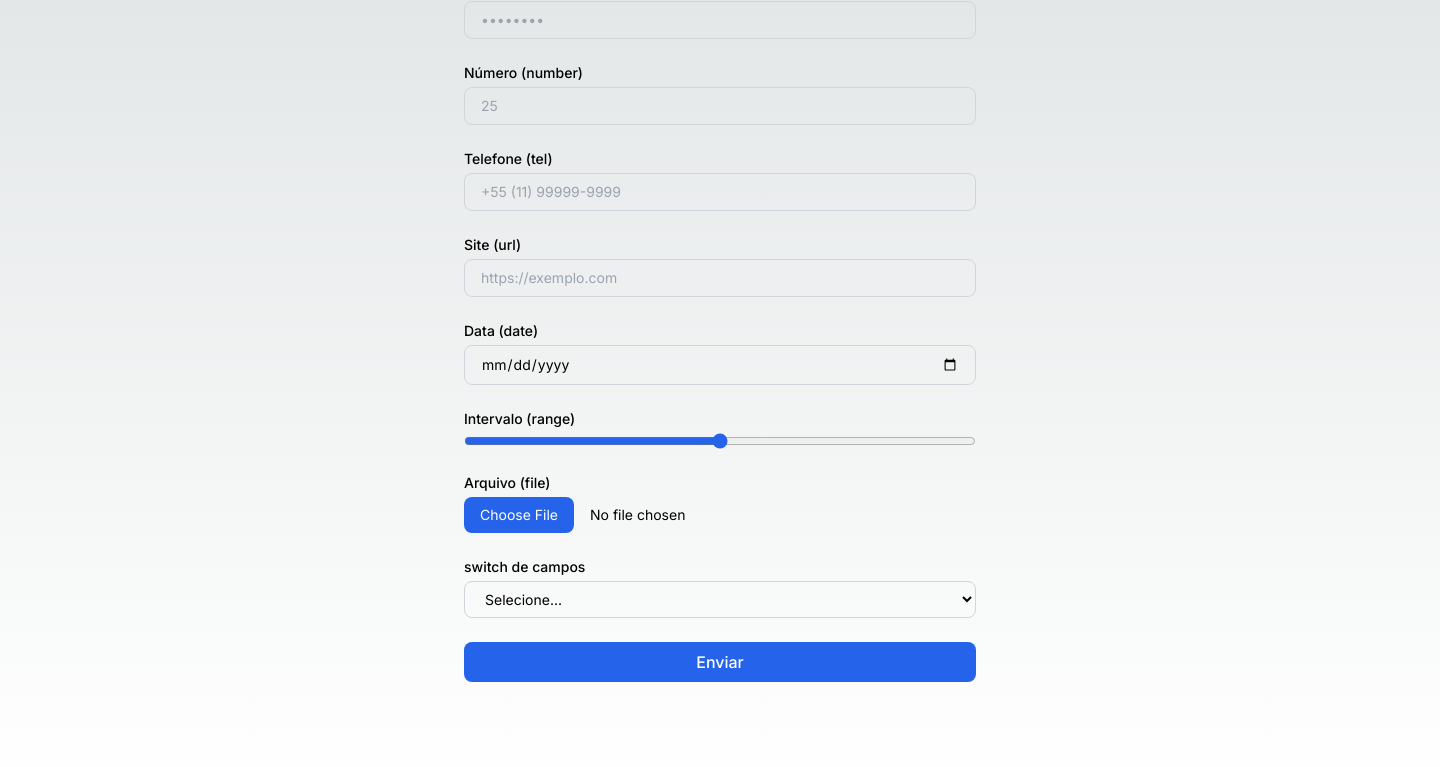
Test: ContactPage — campo WhatsApp condicional › Deve exibir o campo WhatsApp Quando selecionar a opção WhatsApp
(page scrolled)
Select "campo-1" in the dropdown at [720, 600], box [464,581,976,618]
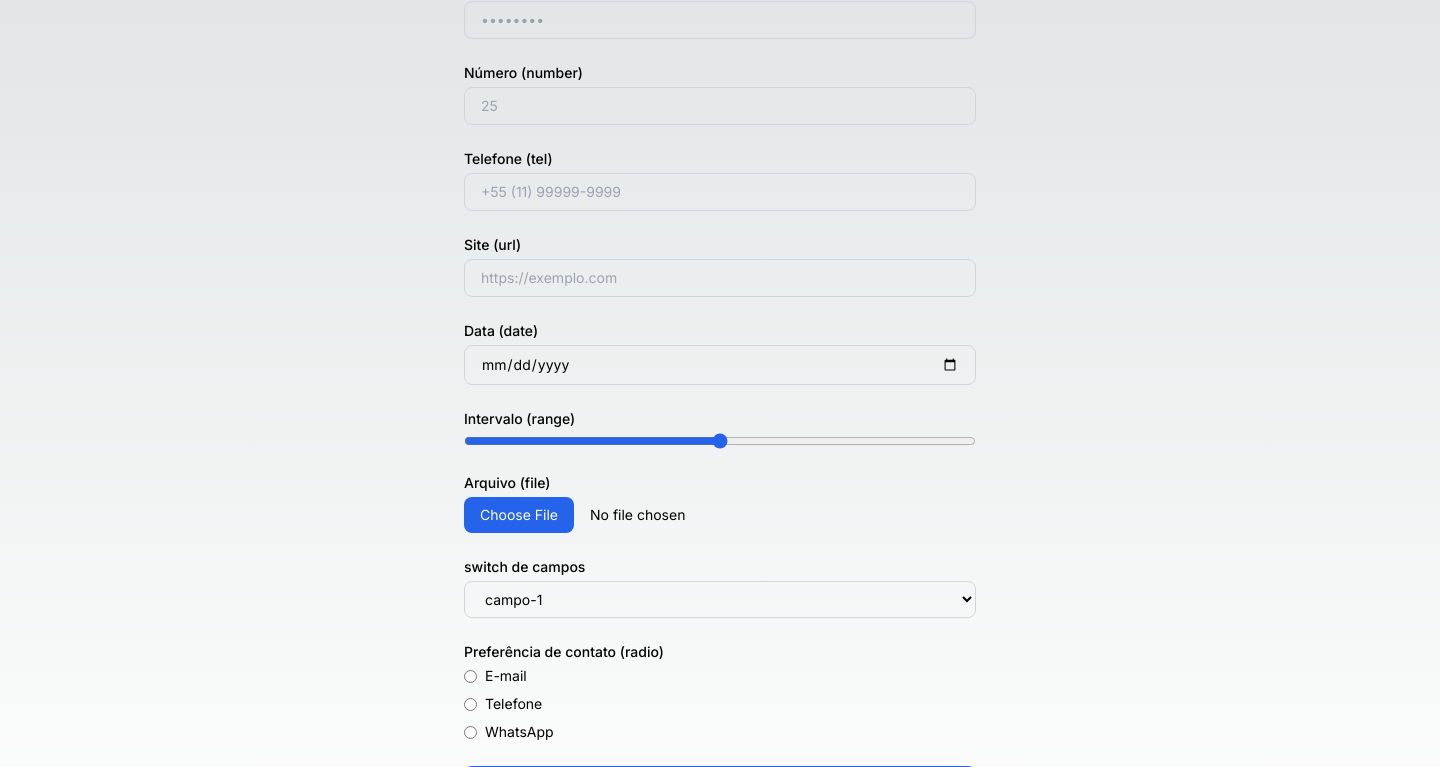
Click the radio button showing "whatsapp" at [470, 732], box [464,726,477,738]
(page scrolled)
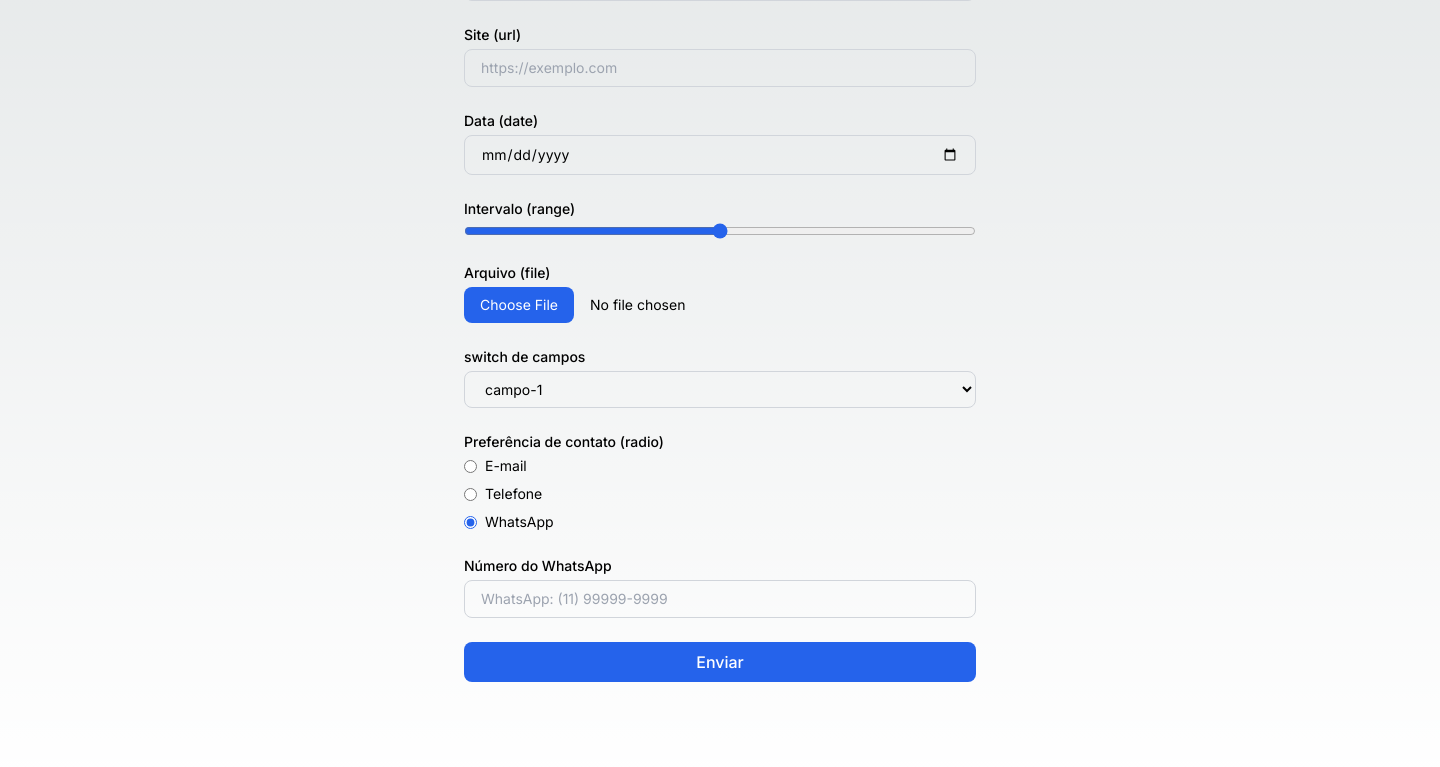
Expected: the field with placeholder "WhatsApp: (11) 99999-9999" is shown, [464,580,976,618]
